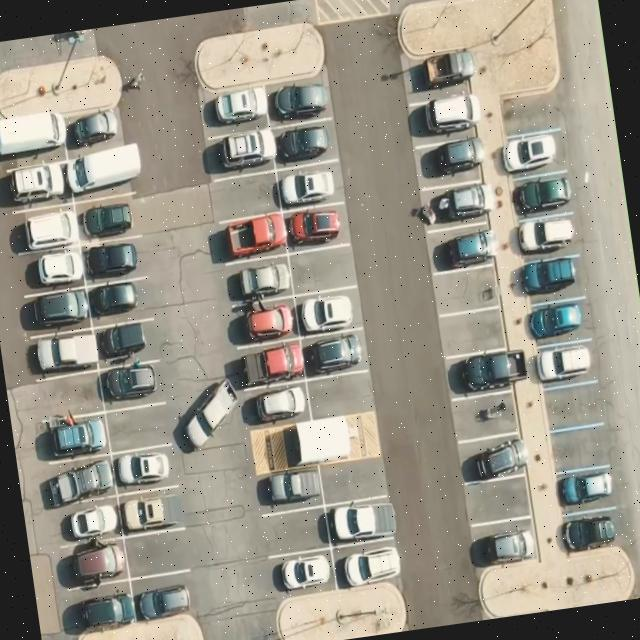space-empty: (31, 370, 106, 426), (259, 504, 331, 560), (454, 388, 519, 450), (432, 261, 502, 317), (124, 526, 196, 580), (208, 170, 280, 222), (305, 369, 375, 422), (105, 402, 177, 453), (464, 476, 534, 528), (438, 306, 507, 358), (539, 379, 608, 431), (287, 244, 356, 294), (318, 456, 386, 506), (548, 424, 612, 474), (498, 91, 562, 137)
space-occupied: (444, 342, 526, 402), (64, 140, 144, 200), (407, 85, 485, 144), (23, 322, 99, 382), (0, 151, 73, 212), (228, 338, 308, 393), (418, 178, 494, 234), (324, 492, 396, 550), (220, 253, 294, 309), (36, 408, 110, 464), (202, 126, 278, 180), (425, 222, 499, 277), (213, 211, 289, 264), (52, 493, 125, 548), (72, 190, 146, 244), (264, 544, 338, 598), (498, 124, 568, 181), (523, 293, 595, 348), (66, 580, 138, 635), (414, 136, 490, 188), (8, 200, 78, 256), (117, 483, 190, 536), (506, 169, 578, 222), (294, 282, 362, 338), (42, 456, 118, 506), (110, 442, 183, 494), (230, 291, 300, 345), (80, 232, 150, 286), (516, 250, 586, 304), (468, 518, 538, 572), (458, 432, 527, 486), (516, 206, 581, 263), (130, 570, 196, 626), (98, 358, 166, 412), (274, 159, 344, 211), (60, 536, 130, 588), (331, 538, 401, 590), (257, 463, 325, 515), (301, 328, 368, 380), (538, 340, 606, 391), (19, 246, 88, 296), (282, 201, 348, 253), (272, 118, 338, 170), (552, 463, 618, 515), (86, 278, 152, 330), (200, 86, 268, 136), (501, 128, 568, 178), (266, 78, 332, 128), (94, 318, 159, 368), (559, 506, 624, 556), (400, 52, 470, 97), (0, 113, 65, 160), (244, 384, 312, 428), (26, 290, 92, 334), (69, 112, 127, 147)
